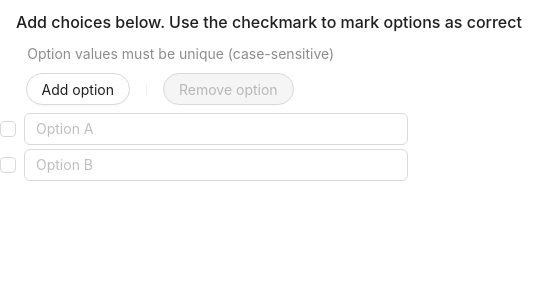
test adding 5 options
Expected: the button "Remove option" is disabled, [163,73,294,105]
Click the button "Add option" at (78, 89), box [26,73,130,105]
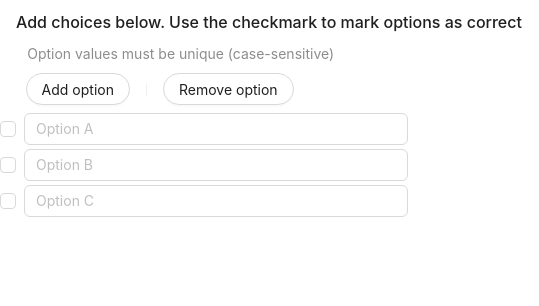
Click the button "Add option" at (78, 89), box [26,73,130,105]
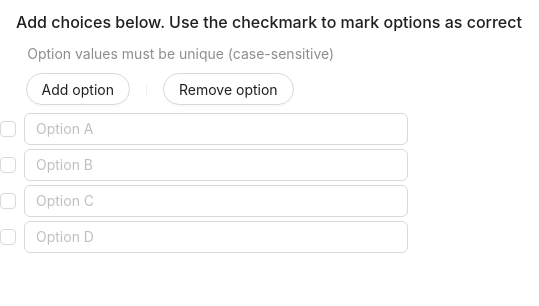
Click the button "Add option" at (78, 89), box [26,73,130,105]
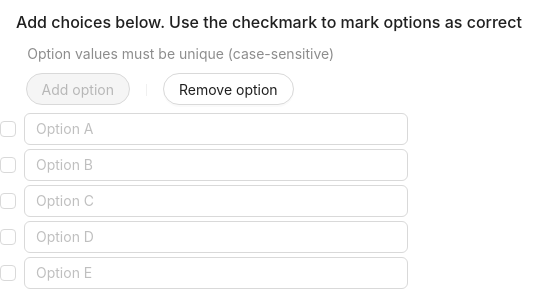
Result: the button "Remove option" is enabled at [163,73,294,105]
Result: the button "Add option" is disabled at [26,73,130,105]
